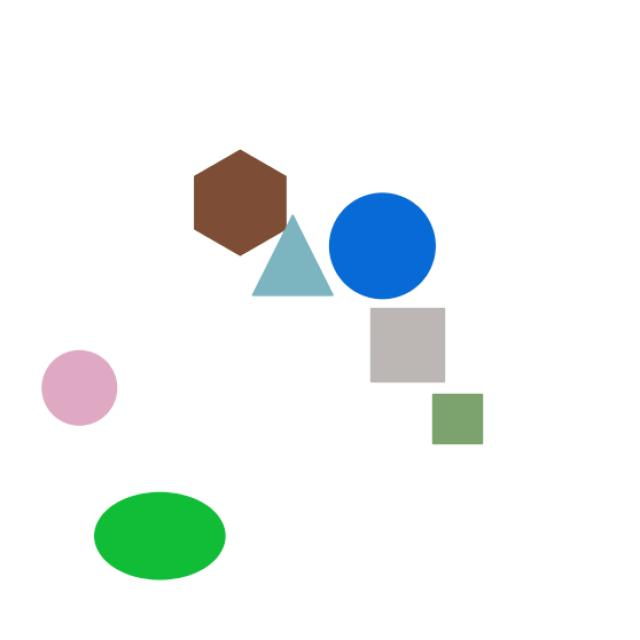Circle: (323, 183, 460, 309), (36, 345, 128, 432)
Hexagon: (164, 143, 298, 266)
Oval: (86, 481, 274, 587)
Triangle: (236, 212, 338, 309)
square: (356, 293, 466, 398), (423, 378, 505, 465)
